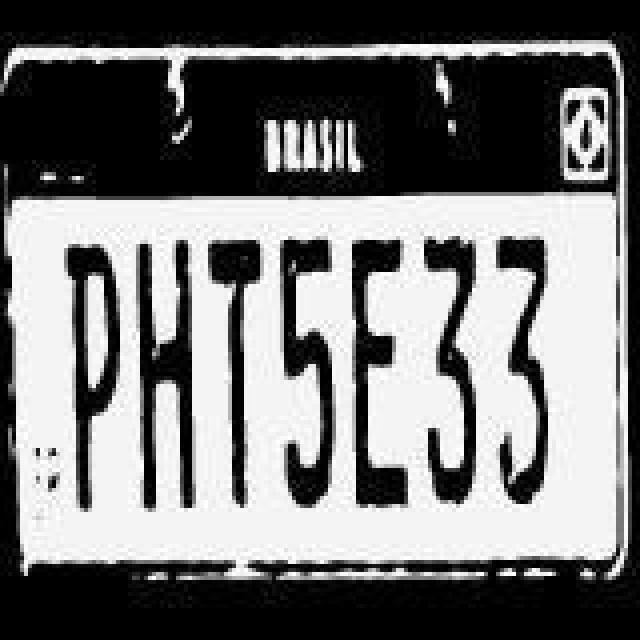3: (424, 232, 480, 504), (492, 238, 548, 506)
5: (278, 240, 338, 512)
E: (350, 240, 410, 512)
H: (136, 238, 200, 514)
P: (62, 240, 122, 512)
T: (208, 240, 264, 512)
